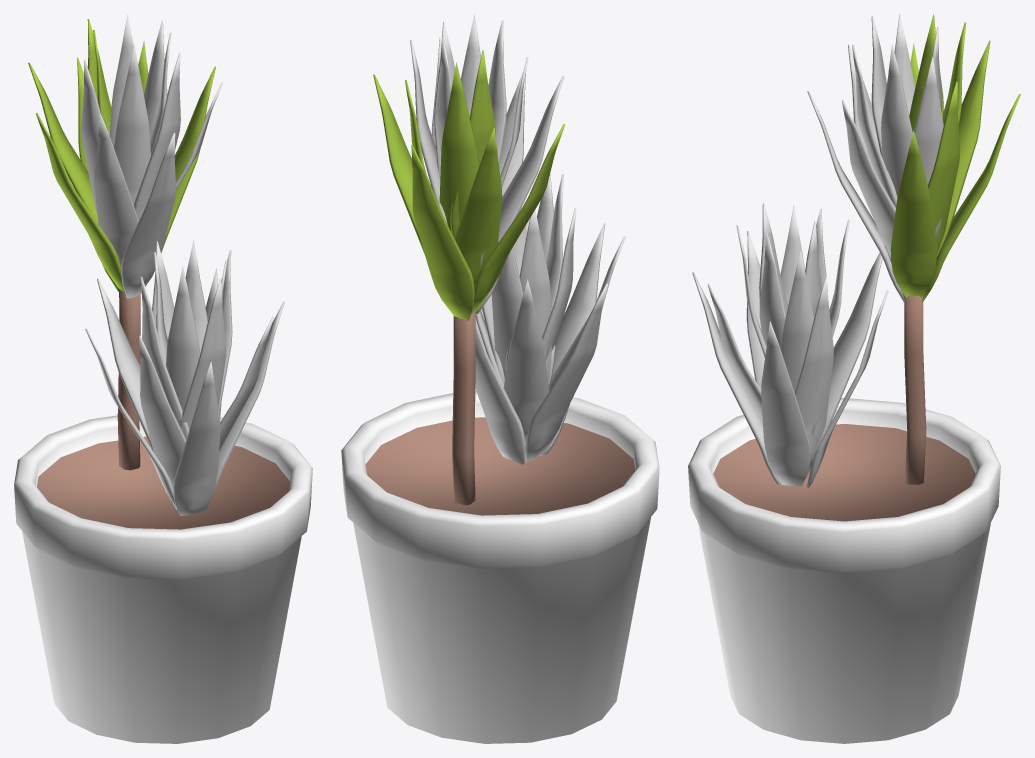
File: vaso_pianta.fbx
The picture shows the model from 3 angles, left to right: view 1: azimuth 30°, elevation 25°; view 2: azimuth 150°, elevation 25°; view 3: azimuth 270°, elevation 25°; orthographic projection. The views are drawn at different scales.
Parts seen in each view (by area): view 1: Cylinder.002, Cube.020, Cube.004, Cube.008, Cube.015, Cube.024, Cube.031, Cube.001, Cube.027, Cube.002, Cube.011, Cube.022 (+17 smaller); view 2: Cylinder.002, Cube.005, Cube.001, Cube.022, Cube.006, Cube.010, Cube.018, Cube.021, Cube.002, Cube.020, Cube.008, Cube.032 (+15 smaller); view 3: Cylinder.002, Cube.003, Cube.019, Cube.025, Cube.001, Cube.022, Cube.017, Cube.009, Cube.029, Cube.007, Cube.006, Cube.013 (+18 smaller).
Part boxes in pixels (<box>): Cylinder.002: <box>14,415,312,743</box>; Cube.020: <box>173,361,220,515</box>; Cube.004: <box>121,132,176,298</box>; Cube.008: <box>94,114,138,268</box>; Cube.015: <box>114,45,150,204</box>; Cube.024: <box>139,335,186,488</box>; Cube.031: <box>166,266,200,410</box>; Cube.001: <box>117,289,140,470</box>; Cube.027: <box>179,278,226,434</box>; Cube.002: <box>36,113,124,291</box>; Cube.011: <box>134,53,180,219</box>; Cube.022: <box>97,278,153,452</box>; Cylinder.002: <box>341,391,659,743</box>; Cube.005: <box>411,144,474,320</box>; Cube.001: <box>452,312,475,505</box>; Cube.022: <box>503,279,549,445</box>; Cube.006: <box>454,127,502,288</box>; Cube.010: <box>439,62,479,232</box>; Cube.018: <box>525,283,607,461</box>; Cube.021: <box>475,322,525,464</box>; Cube.002: <box>471,124,565,314</box>; Cube.020: <box>525,223,605,454</box>; Cube.008: <box>498,76,564,242</box>; Cube.032: <box>505,209,551,382</box>; Cylinder.002: <box>688,398,1000,743</box>; Cube.003: <box>890,130,936,297</box>; Cube.019: <box>761,321,810,486</box>; Cube.025: <box>794,277,833,476</box>; Cube.001: <box>904,295,926,484</box>; Cube.022: <box>816,252,882,449</box>; Cube.017: <box>881,45,912,197</box>; Cube.009: <box>928,81,960,258</box>; Cube.029: <box>780,250,818,435</box>; Cube.007: <box>841,100,895,254</box>; Cube.006: <box>937,40,990,256</box>; Cube.013: <box>914,56,943,238</box>.
Bounding box in the file's own units: 114 × 270 × 121.
